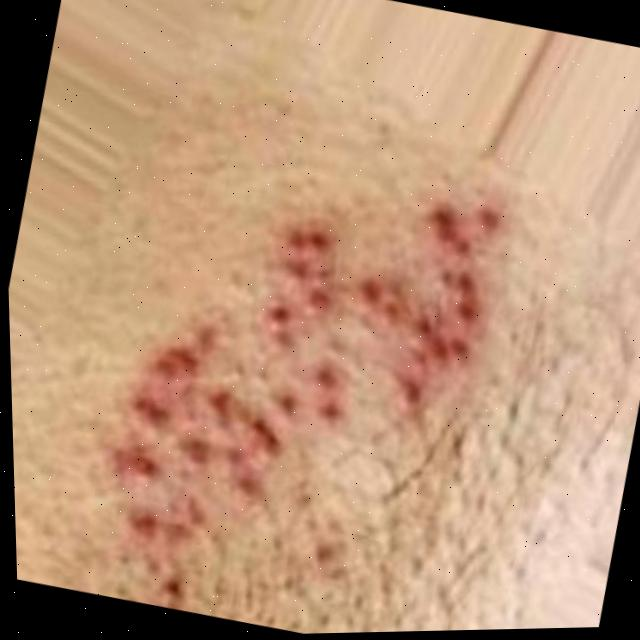Shingles: (83, 148, 506, 638)
